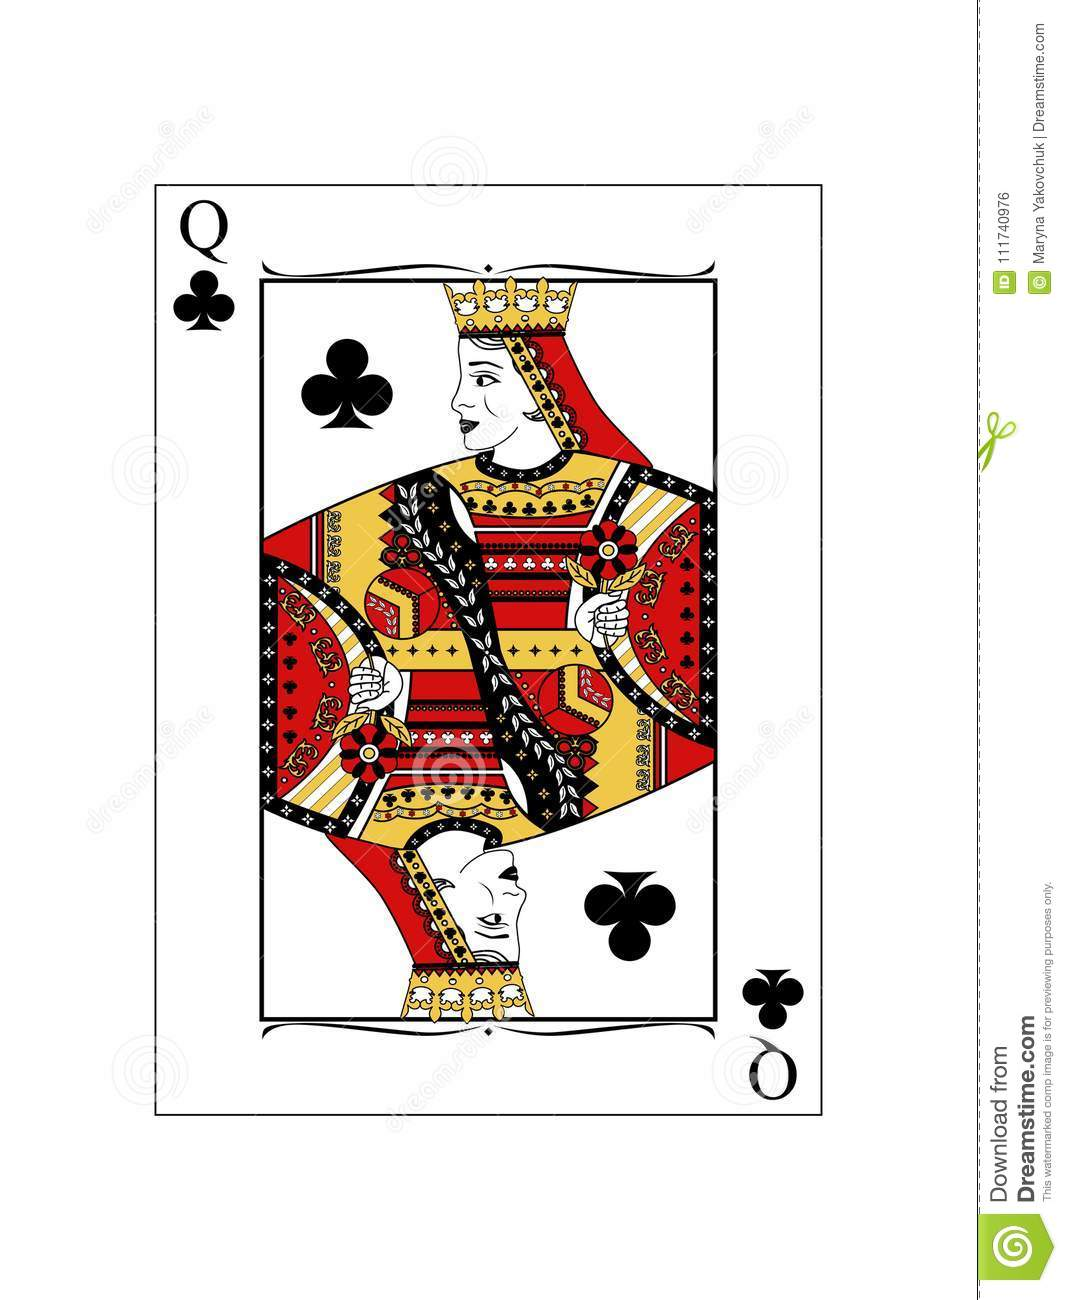queen of clubs: (150, 182, 823, 1115)
